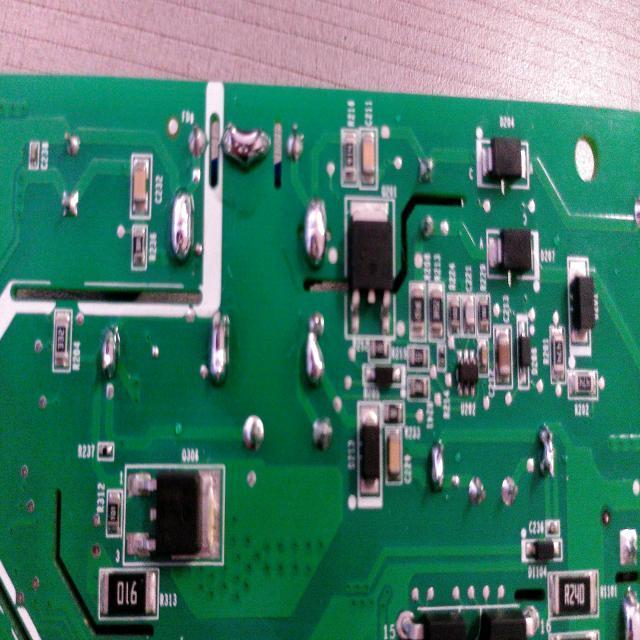Soldering shorted: (218, 119, 273, 179), (300, 309, 332, 396), (166, 186, 198, 268), (300, 194, 330, 272), (210, 305, 234, 394), (534, 421, 560, 487), (425, 430, 449, 498), (100, 324, 120, 384)
